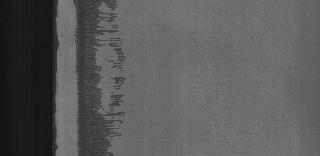oil spot: (72, 2, 128, 156)
